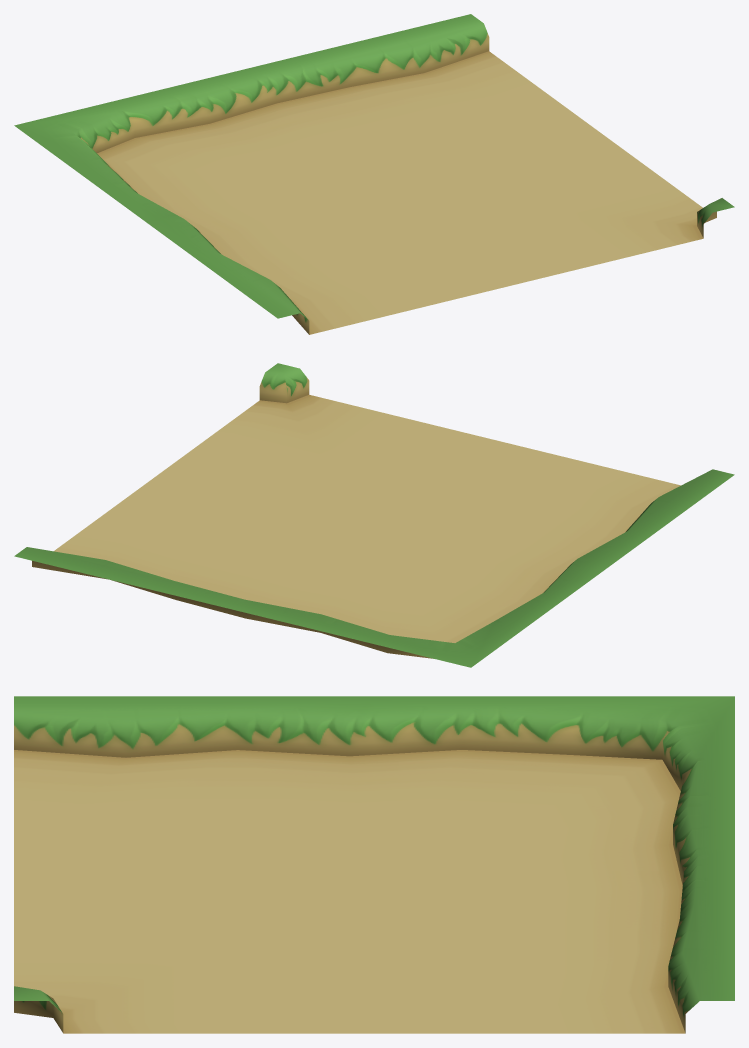
The model's file is Tile08.FBX.
The picture shows the model from 3 angles, top to bottom: view 1: azimuth 30°, elevation 25°; view 2: azimuth 150°, elevation 25°; view 3: azimuth 270°, elevation 25°; orthographic projection. The views are drawn at different scales.
Parts seen in each view (by area): view 1: Tile08; view 2: Tile08; view 3: Tile08.
Part boxes in pixels (bbox=[...]): Tile08: bbox=[14, 14, 734, 334]; Tile08: bbox=[14, 363, 734, 667]; Tile08: bbox=[14, 696, 734, 1033].
Size of the model in its own units: 500 by 25 by 500.
